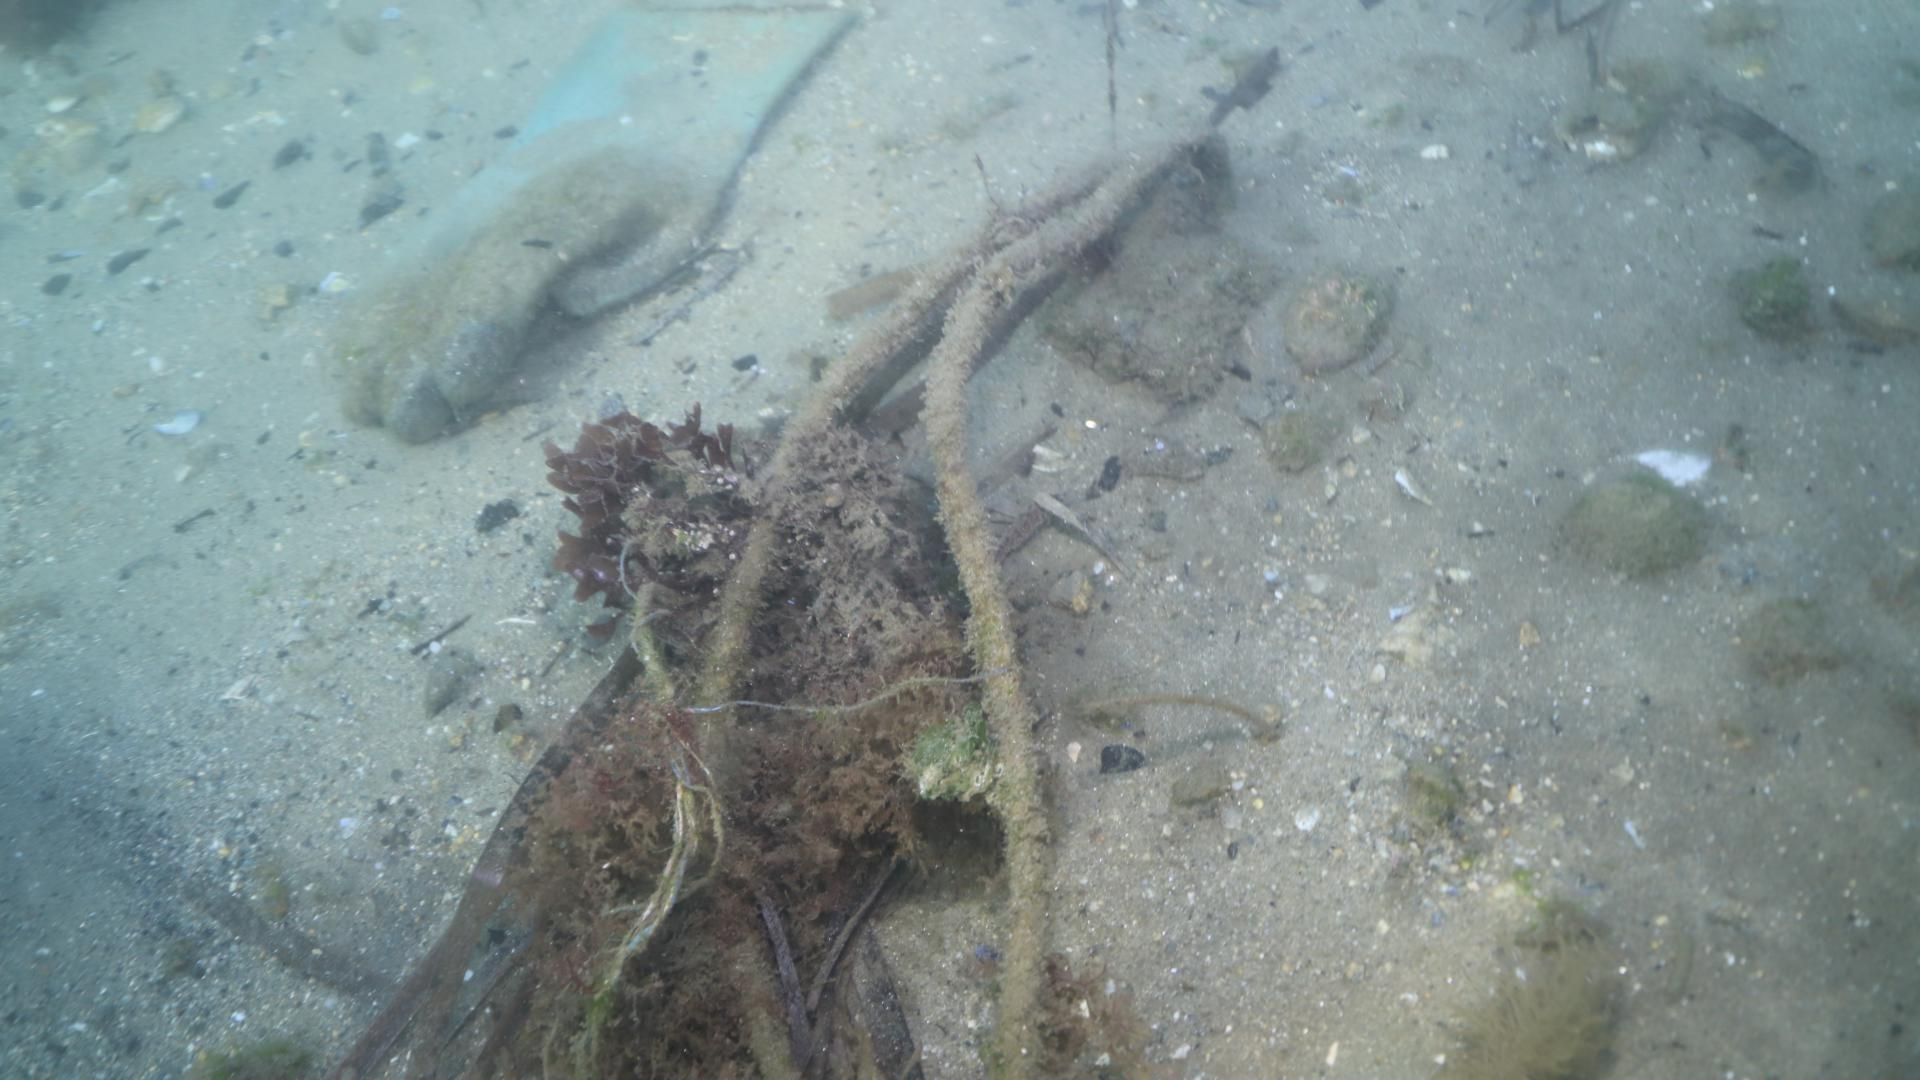bundle of ropes: (691, 123, 1222, 1080)
